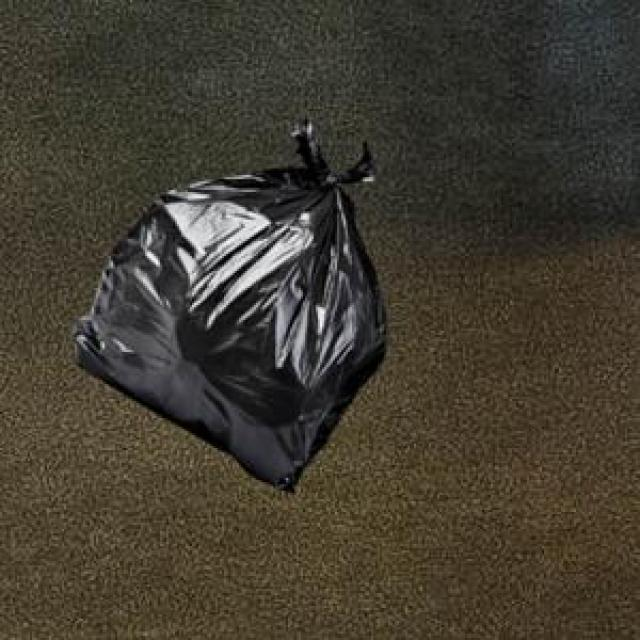waste: (74, 121, 385, 487)
